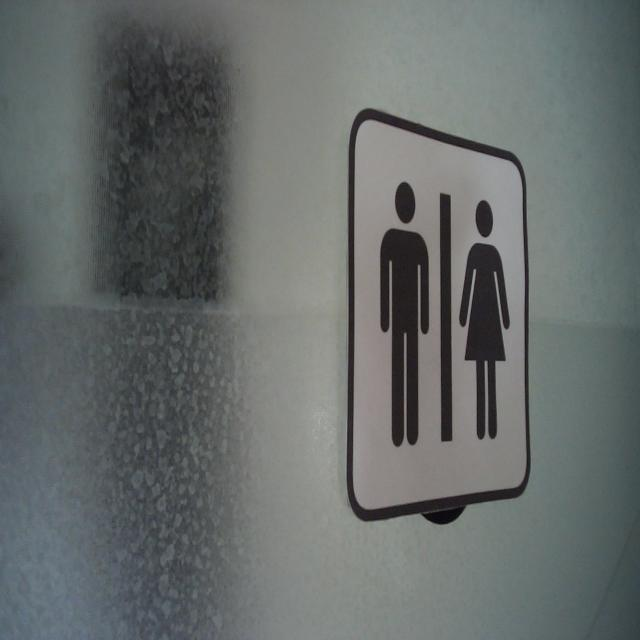restroom: (344, 103, 534, 525)
